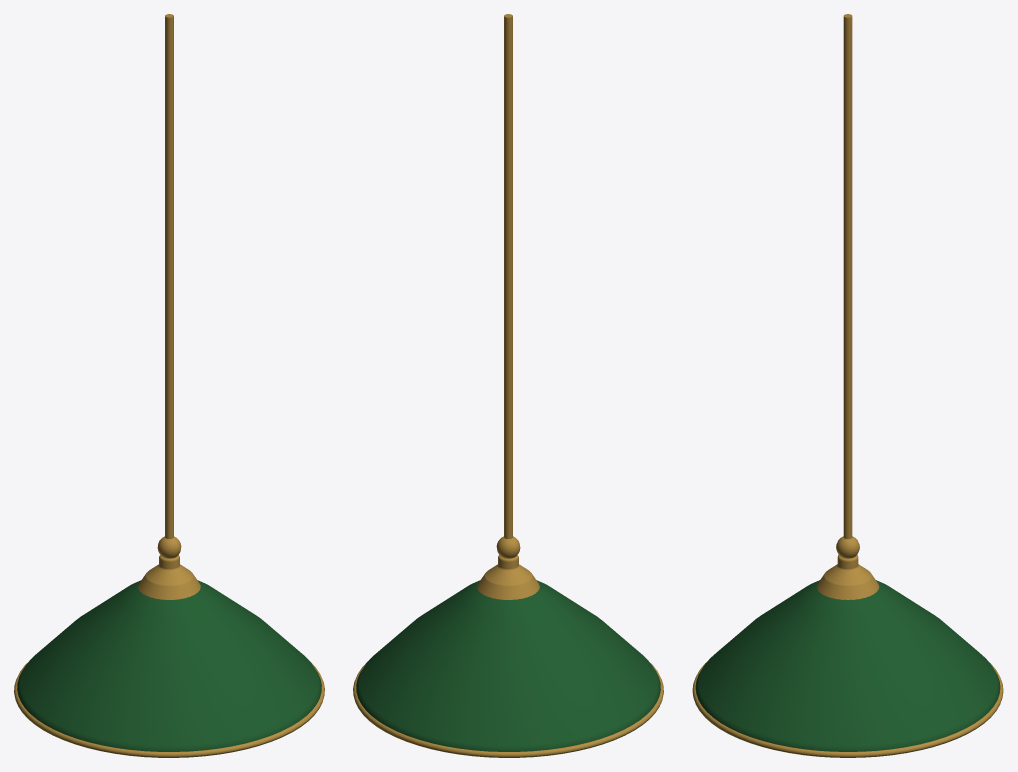
Rendered from library_pendant.glb.
3 views of the same model, side by side, from view 1: azimuth 30°, elevation 25°; view 2: azimuth 150°, elevation 25°; view 3: azimuth 270°, elevation 25° (orthographic).
Visible parts, largest first — view 1: Mesh_Shade, Mesh_Rod, Mesh_Rim, Mesh_Collar; view 2: Mesh_Shade, Mesh_Rod, Mesh_Rim, Mesh_Collar; view 3: Mesh_Shade, Mesh_Rod, Mesh_Rim, Mesh_Collar.
Boxes of the visible parts, x1,y1,x2,y2 form: Mesh_Shade: (15,580,321,757); Mesh_Rod: (165,14,173,539); Mesh_Rim: (14,661,324,757); Mesh_Collar: (138,555,200,599); Mesh_Shade: (356,580,662,757); Mesh_Rod: (504,14,512,539); Mesh_Rim: (353,661,663,757); Mesh_Collar: (477,555,539,599); Mesh_Shade: (695,580,1000,757); Mesh_Rod: (843,14,852,538); Mesh_Rim: (692,662,1003,757); Mesh_Collar: (816,555,879,599).
Size of the model in its own units: 0.417 by 1.04 by 0.417.
